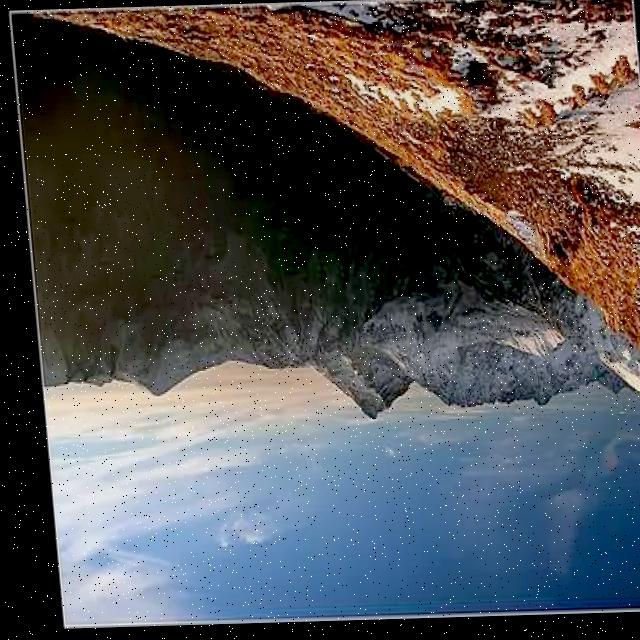Hruby vrch: (481, 344, 604, 464)
Krivan: (290, 340, 459, 494)
